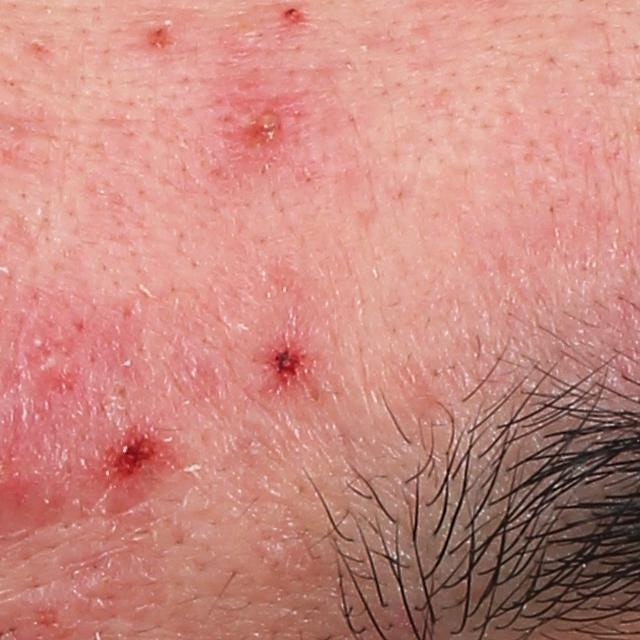papule: (95, 415, 173, 497), (259, 338, 307, 382), (274, 4, 310, 33)
pustule: (214, 87, 283, 154)
